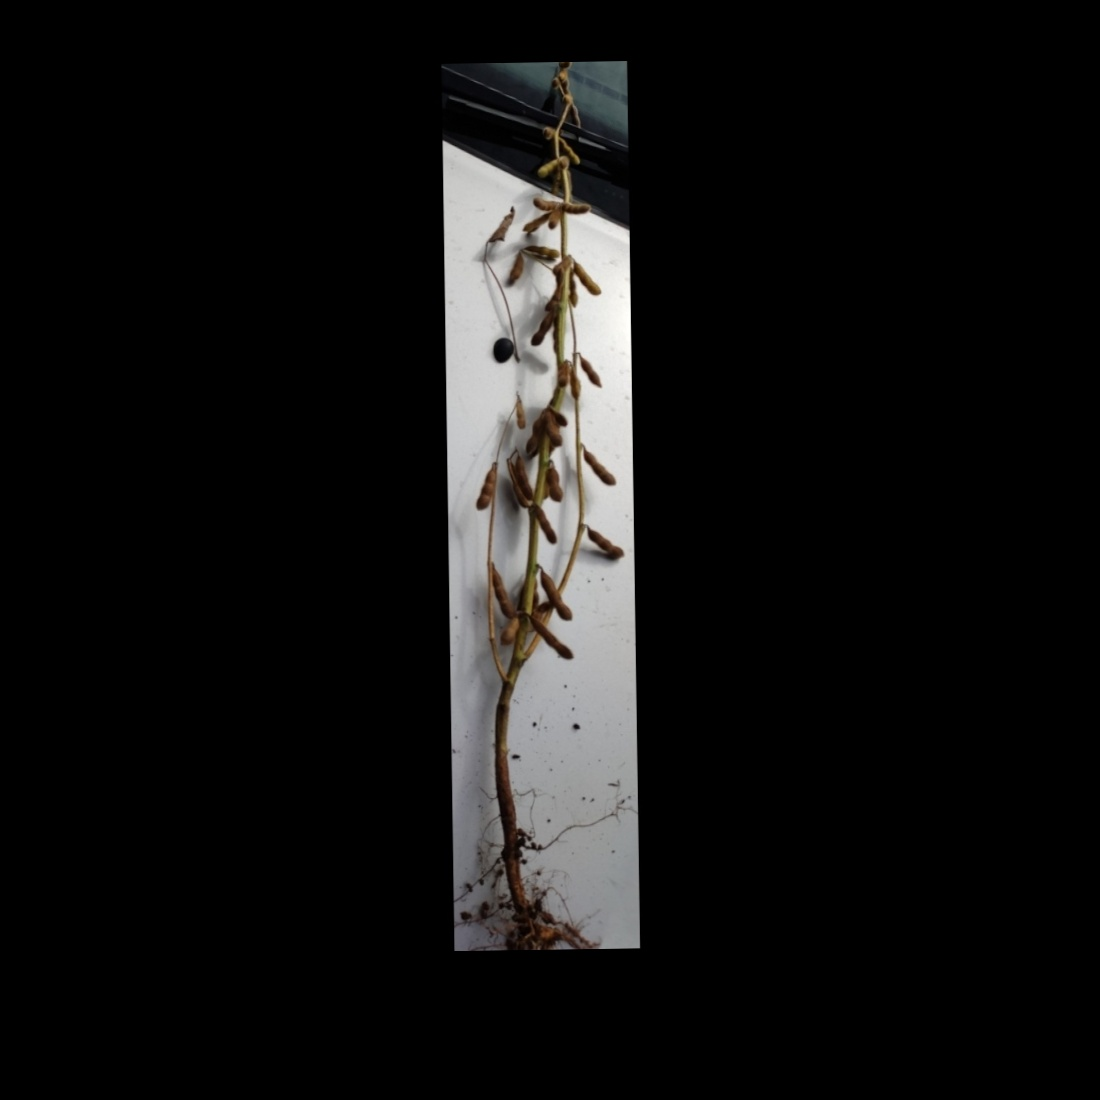pod: (527, 618, 579, 665), (537, 566, 577, 624), (580, 442, 618, 490), (583, 526, 629, 560), (490, 563, 516, 620), (572, 257, 604, 299), (526, 306, 556, 350), (471, 461, 496, 512), (535, 503, 560, 549), (577, 351, 605, 391), (544, 461, 566, 504), (521, 243, 564, 261), (535, 156, 562, 181), (558, 200, 593, 217)
soy: (448, 49, 636, 951)
